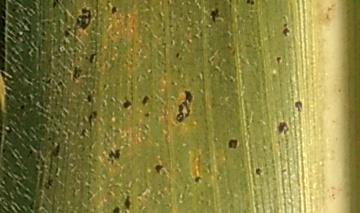tarspot: (175, 89, 193, 122), (75, 7, 91, 31), (106, 149, 122, 165), (71, 65, 83, 83), (277, 119, 289, 136), (87, 111, 99, 127), (209, 7, 220, 23), (51, 141, 62, 157), (226, 138, 239, 150), (44, 175, 53, 191), (122, 97, 132, 110), (123, 194, 131, 210), (294, 100, 303, 113), (88, 52, 97, 65), (79, 127, 88, 139), (281, 27, 290, 38), (154, 163, 163, 174), (41, 76, 52, 85), (3, 123, 12, 133), (141, 95, 149, 106), (85, 93, 92, 105), (254, 167, 263, 176), (193, 175, 202, 184), (51, 1, 60, 10), (25, 148, 34, 157), (63, 29, 71, 38), (275, 55, 282, 65), (110, 5, 117, 15), (111, 206, 120, 213), (142, 111, 151, 118), (1, 146, 7, 155), (245, 1, 255, 6), (56, 80, 63, 87), (40, 30, 47, 37), (19, 103, 25, 110), (25, 94, 31, 101), (282, 22, 288, 28), (174, 51, 179, 58), (227, 1, 233, 3)
